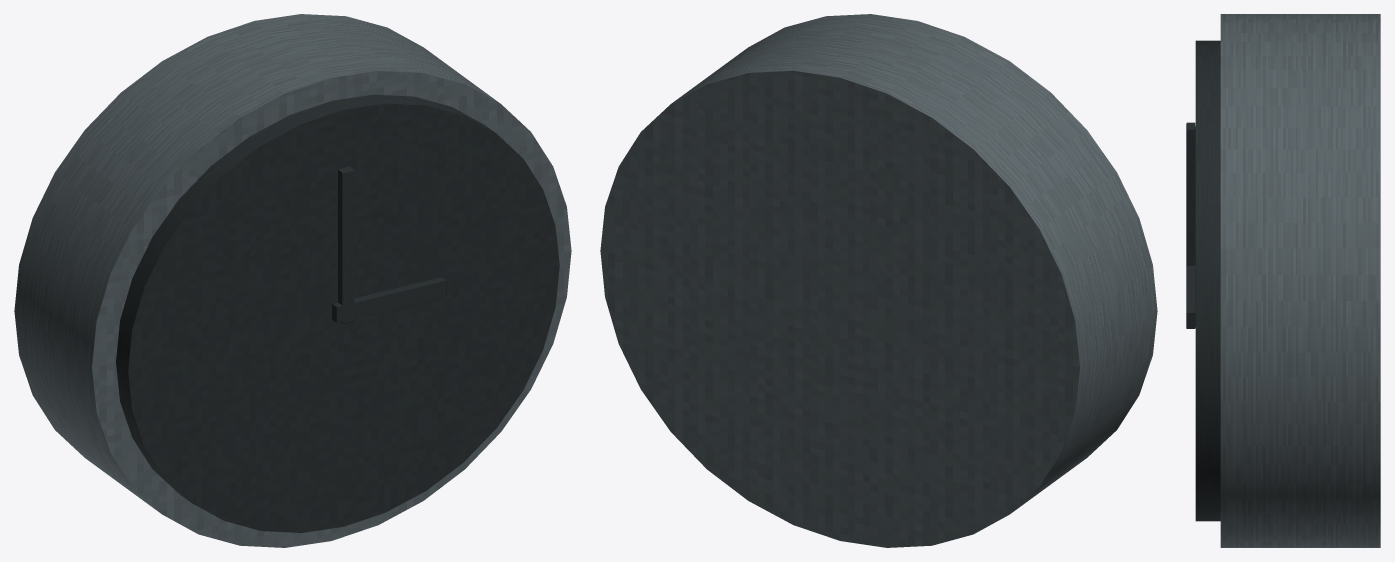
File: alarm-clock.glb
The picture shows the model from 3 angles, left to right: view 1: azimuth 30°, elevation 25°; view 2: azimuth 150°, elevation 25°; view 3: azimuth 270°, elevation 25°; orthographic projection. The views are drawn at different scales.
Visible parts, largest first — view 1: face, rim, minute, hour; view 2: rim; view 3: rim, face, minute, hour.
Boxes of the visible parts, bbox=[...] form: face: bbox=[116, 94, 559, 532]; rim: bbox=[14, 14, 571, 547]; minute: bbox=[338, 166, 354, 324]; hour: bbox=[332, 277, 446, 322]; rim: bbox=[600, 14, 1157, 547]; rim: bbox=[1220, 14, 1380, 547]; face: bbox=[1195, 40, 1220, 521]; minute: bbox=[1186, 122, 1195, 265]; hour: bbox=[1186, 266, 1195, 328].
Size of the model in its own units: 0.13 by 0.12 by 0.0442.
2 materials, 2 textured.
